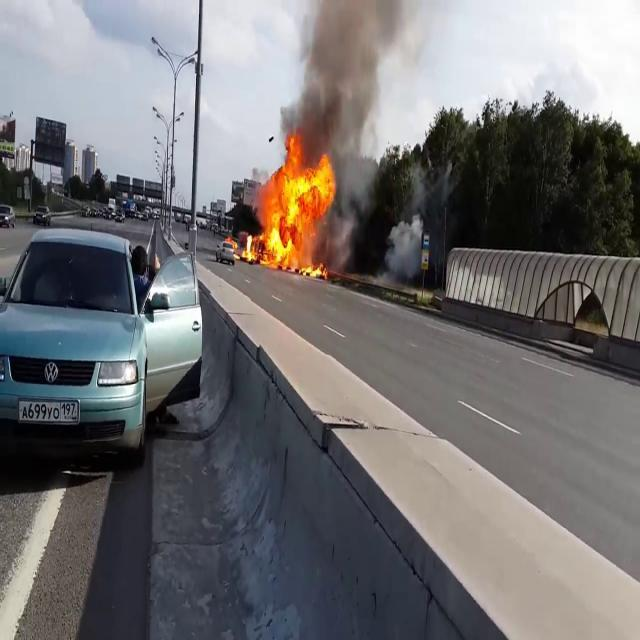Fire: (256, 136, 334, 273), (226, 230, 258, 263)
Smoke: (282, 0, 416, 156)
